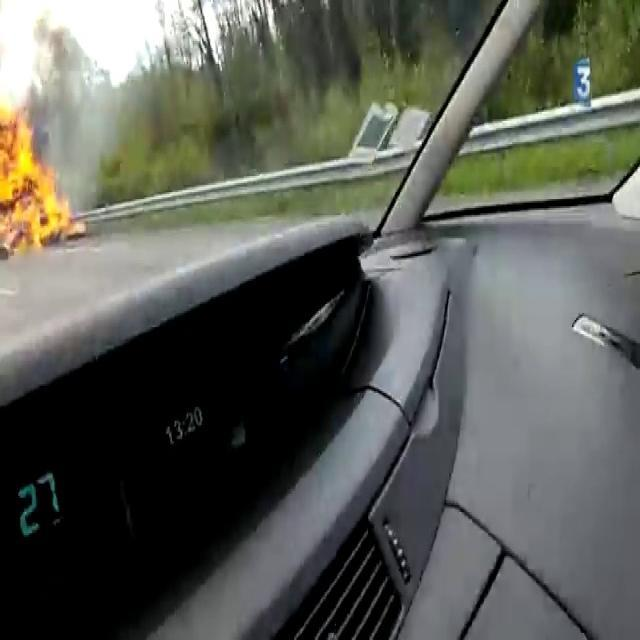Fire: (0, 95, 77, 256)
